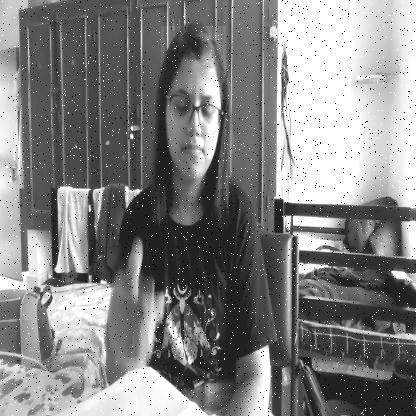Normal: (161, 26, 226, 189)
